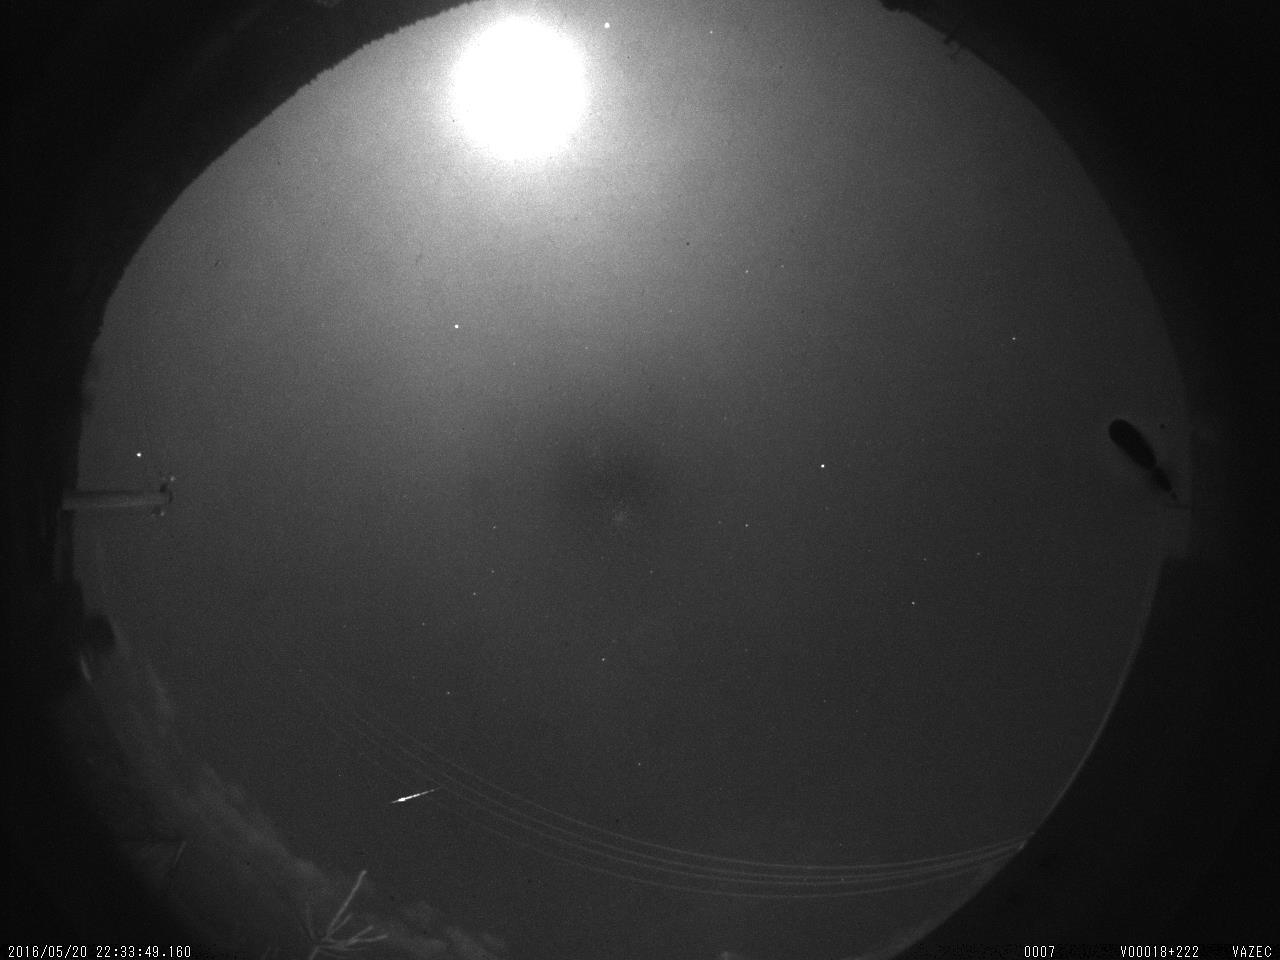Meteor: (383, 779, 447, 809)
